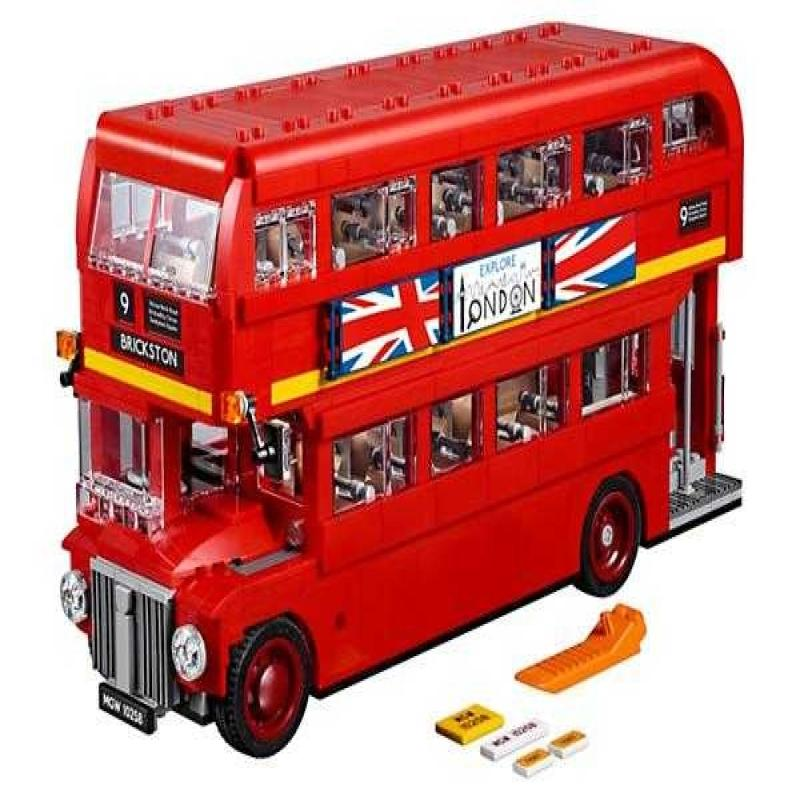bus: (90, 41, 782, 713)
